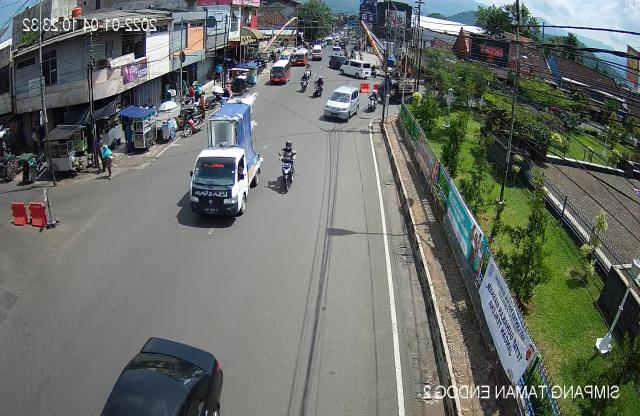Mobil: (94, 328, 228, 416), (185, 91, 265, 223), (322, 84, 360, 133)
Motor: (272, 138, 299, 197)
